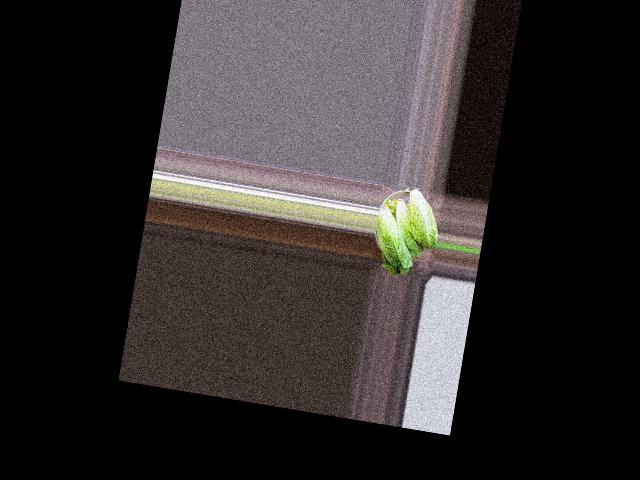lettuce: (369, 198, 424, 275)
